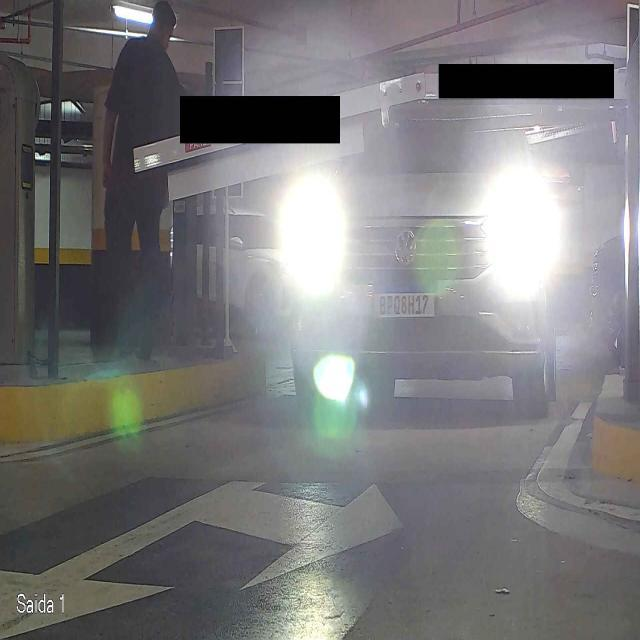mercosul_plate: (374, 286, 438, 320)
